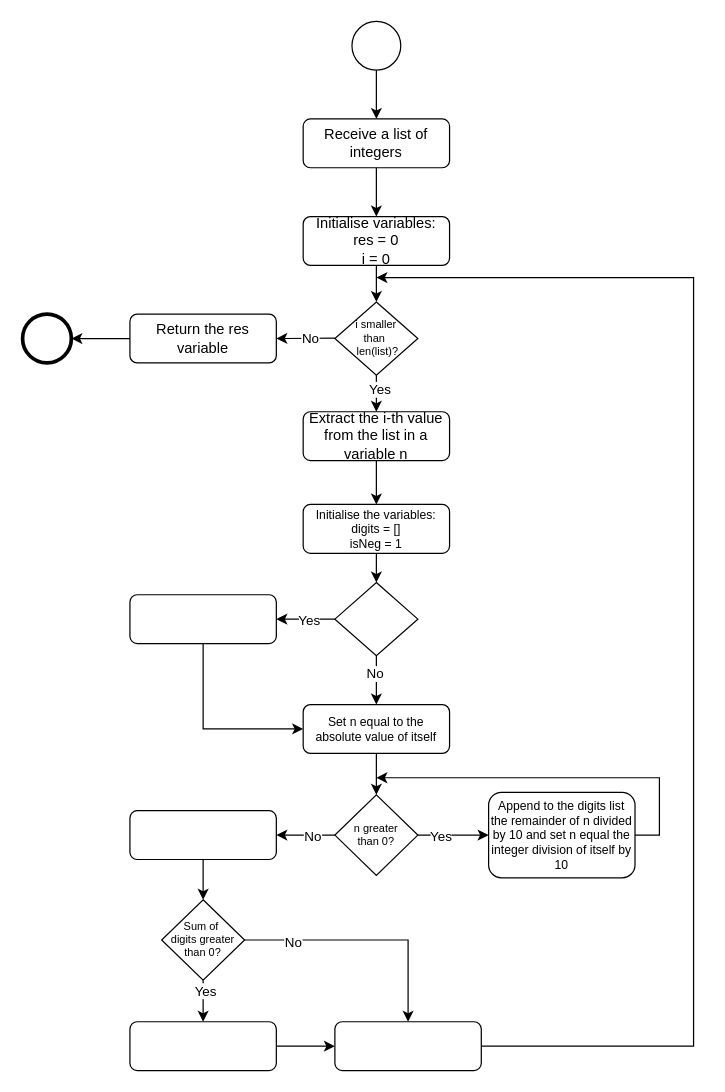
Some shapes in this 725 by 1092 pixel diagram are drawn without their labels. The centre of each missing label's shape, as x and y in pixels:
"Increase i by 1" belongs at (407,1046).
"Increase res by 1" belongs at (202,1046).
"n smaller than 0?" belongs at (376,618).
"Set the flag isNeg to -1" belongs at (202,619).
"Set the last element of the list digits to itself multiply by the flag isNeg" belongs at (202,834).
